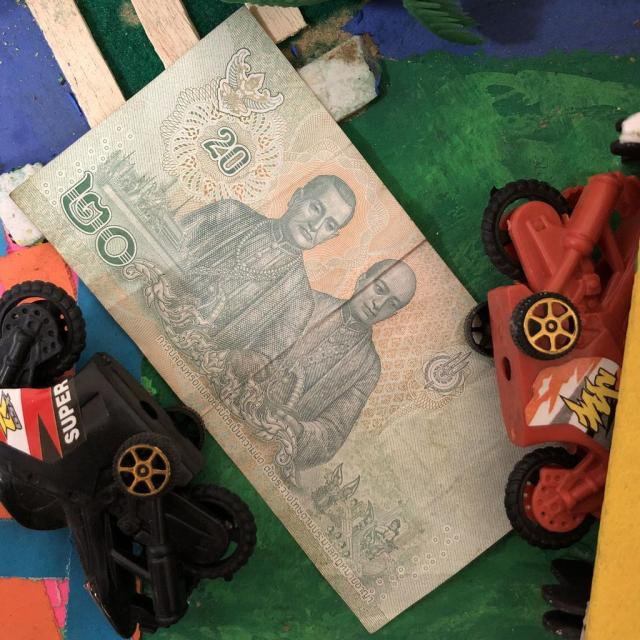THAI20: (12, 9, 521, 632)
